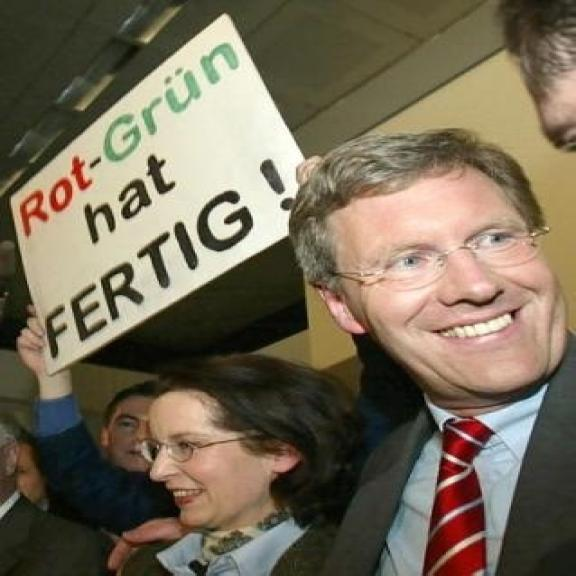face: (311, 167, 568, 401), (147, 390, 298, 531), (96, 388, 154, 468)
